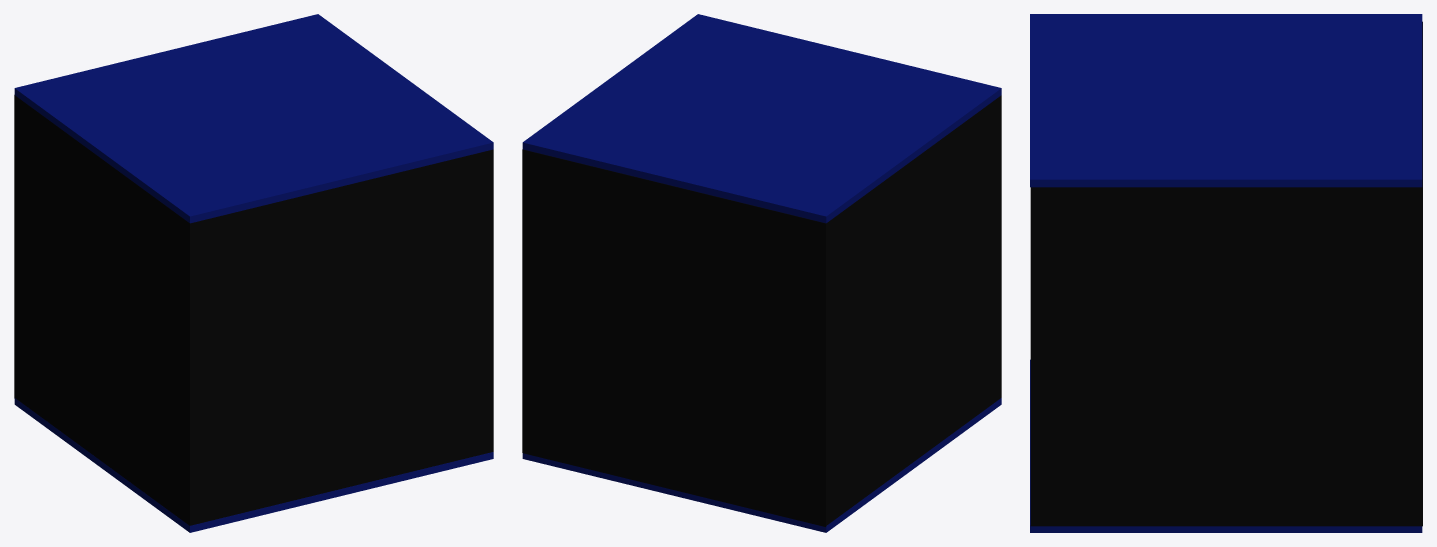
Rendered from EsquineroAzul.fbx.
3 views of the same model, side by side, from view 1: azimuth 30°, elevation 25°; view 2: azimuth 150°, elevation 25°; view 3: azimuth 270°, elevation 25° (orthographic). The views are drawn at different scales.
Visible parts, largest first — view 1: Cube.079, Cube.081, Cube.082; view 2: Cube.079, Cube.081, Cube.082; view 3: Cube.079, Cube.081, Cube.082.
Boxes of the visible parts, x1,y1,x2,y2 form: Cube.079: [14, 95, 493, 525]; Cube.081: [14, 14, 493, 223]; Cube.082: [14, 398, 493, 532]; Cube.079: [522, 95, 1001, 526]; Cube.081: [522, 14, 1001, 223]; Cube.082: [522, 398, 1001, 532]; Cube.079: [1030, 21, 1422, 526]; Cube.081: [1030, 14, 1422, 187]; Cube.082: [1030, 359, 1422, 532].
Bounding box in the file's own units: 73.3 × 72.96 × 73.48.
